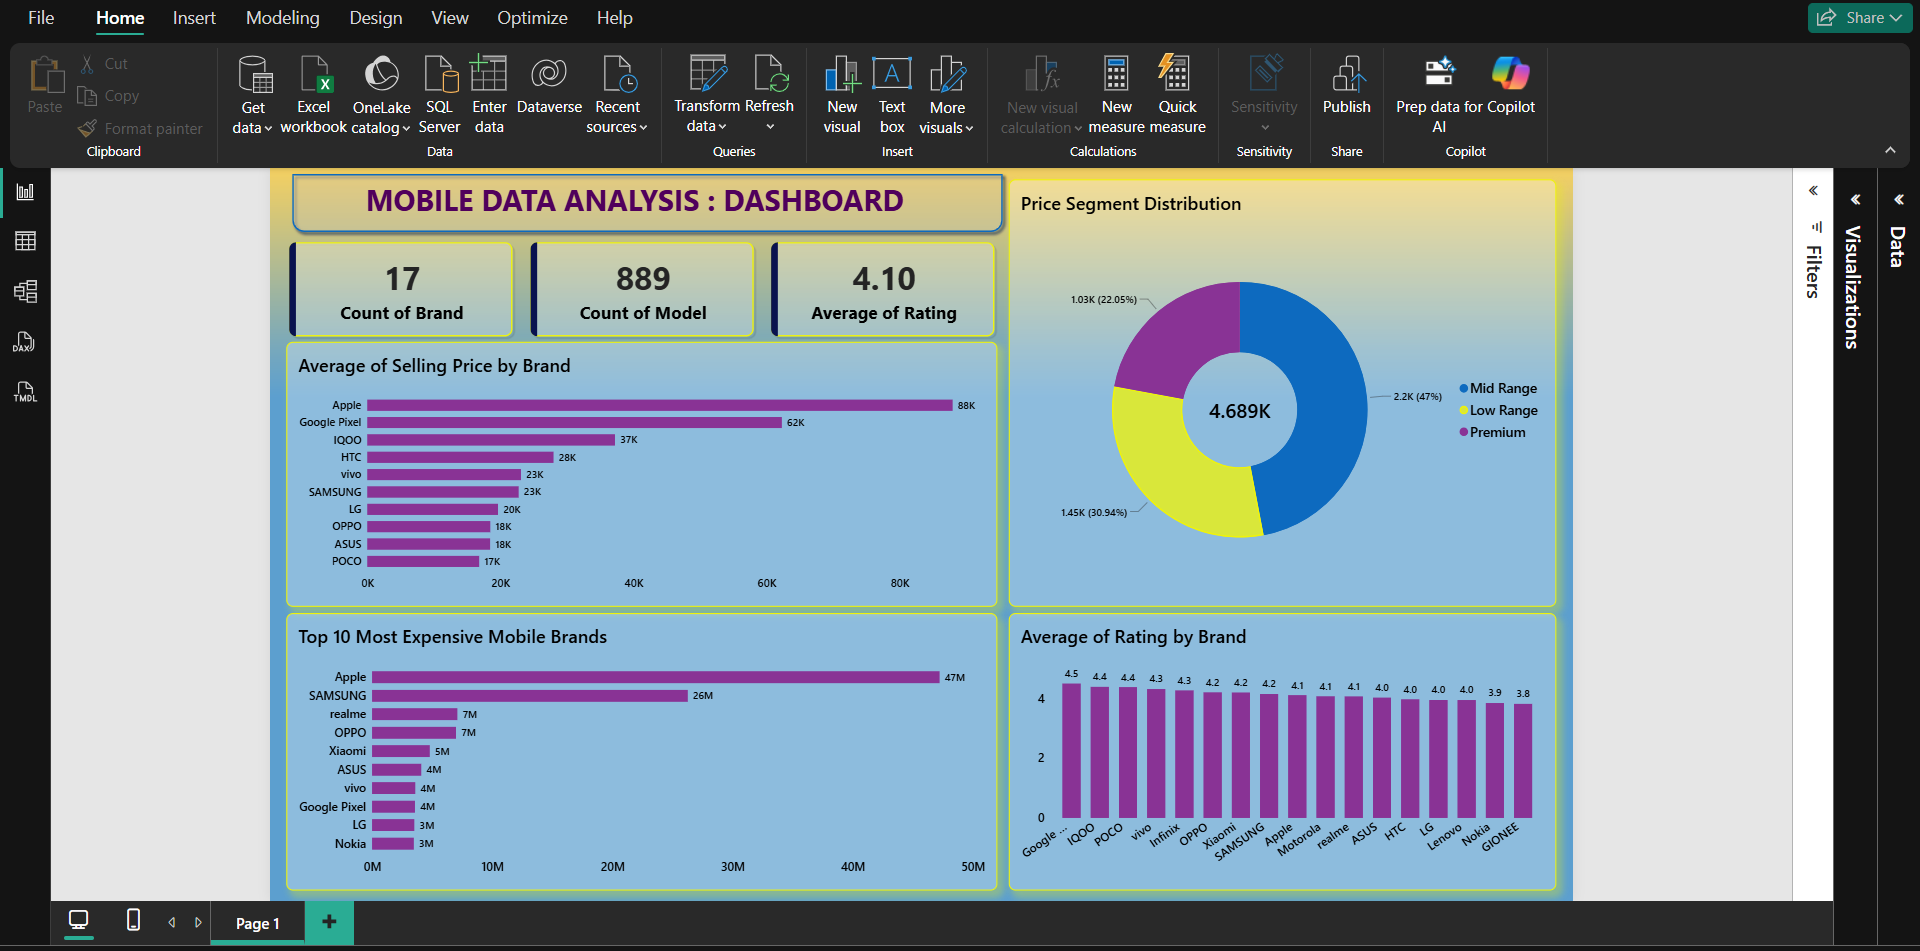

Layout of this report page (visuals, bound fields, positions):
{"tool":"powerbi","page":{"name":"Page 1","canvas":[1920,1080],"ordinal":0},"visuals":[{"type":"cardVisual","fields":{"Data":["Count(mobdb vizdata.Brand)","Count(mobdb vizdata.Model)","Avg(mobdb vizdata.Rating)"]},"box":[23.9,88.3,1078.5,180.4],"z":0},{"type":"shape","box":[23.9,0,1063.8,103.1],"z":1000},{"type":"textbox","box":[95.7,16.6,894.5,71.8],"z":2000},{"type":"clusteredBarChart","fields":{"Category":["mobdb vizdata.Brand"],"Y":["Avg(mobdb vizdata.Selling Price)"]},"box":[23.9,255.8,1047.2,390.2],"z":3000},{"type":"donutChart","title":"Price Segment Distribution","fields":{"Category":["mobdb vizdata.Segments"],"Y":["CountNonNull(mobdb vizdata.Price Segment)"]},"box":[1087.7,16.6,806.1,629.5],"z":4000},{"type":"clusteredBarChart","title":"Top 10 Most Expensive Mobile Brands","fields":{"Category":["mobdb vizdata.Brand"],"Y":["Sum(mobdb vizdata.Selling Price)"]},"box":[23.9,655.2,1047.2,408.6],"z":5000},{"type":"clusteredColumnChart","fields":{"Category":["mobdb vizdata.Brand"],"Y":["Avg(mobdb vizdata.Rating)"]},"box":[1087.7,655.2,806.1,408.6],"z":6000}]}

Visuals, with their boxes on the page's 1920x1080 design canvas (x1, y1, x2, y2). These are canvas units, not pixel positions in the 1920x951 screenshot, which may show the page scaled, cropped or inside an application window:
cardVisual - Count(mobdb vizdata.Brand) x Count(mobdb vizdata.Model): x1=24, y1=88, x2=1102, y2=269
shape: x1=24, y1=0, x2=1088, y2=103
textbox: x1=96, y1=17, x2=990, y2=88
clusteredBarChart - mobdb vizdata.Brand x Avg(mobdb vizdata.Selling Price): x1=24, y1=256, x2=1071, y2=646
"Price Segment Distribution" donutChart: x1=1088, y1=17, x2=1894, y2=646
"Top 10 Most Expensive Mobile Brands" clusteredBarChart: x1=24, y1=655, x2=1071, y2=1064
clusteredColumnChart - mobdb vizdata.Brand x Avg(mobdb vizdata.Rating): x1=1088, y1=655, x2=1894, y2=1064
